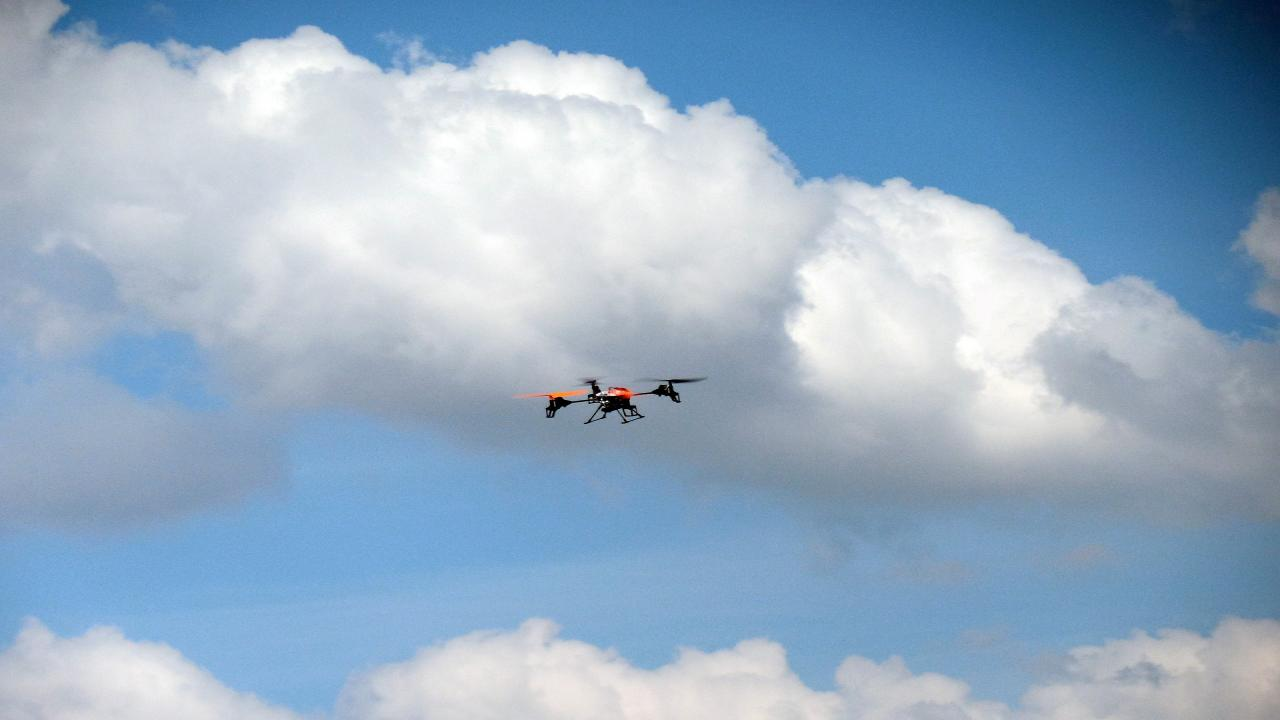Drone: (508, 363, 716, 434)
